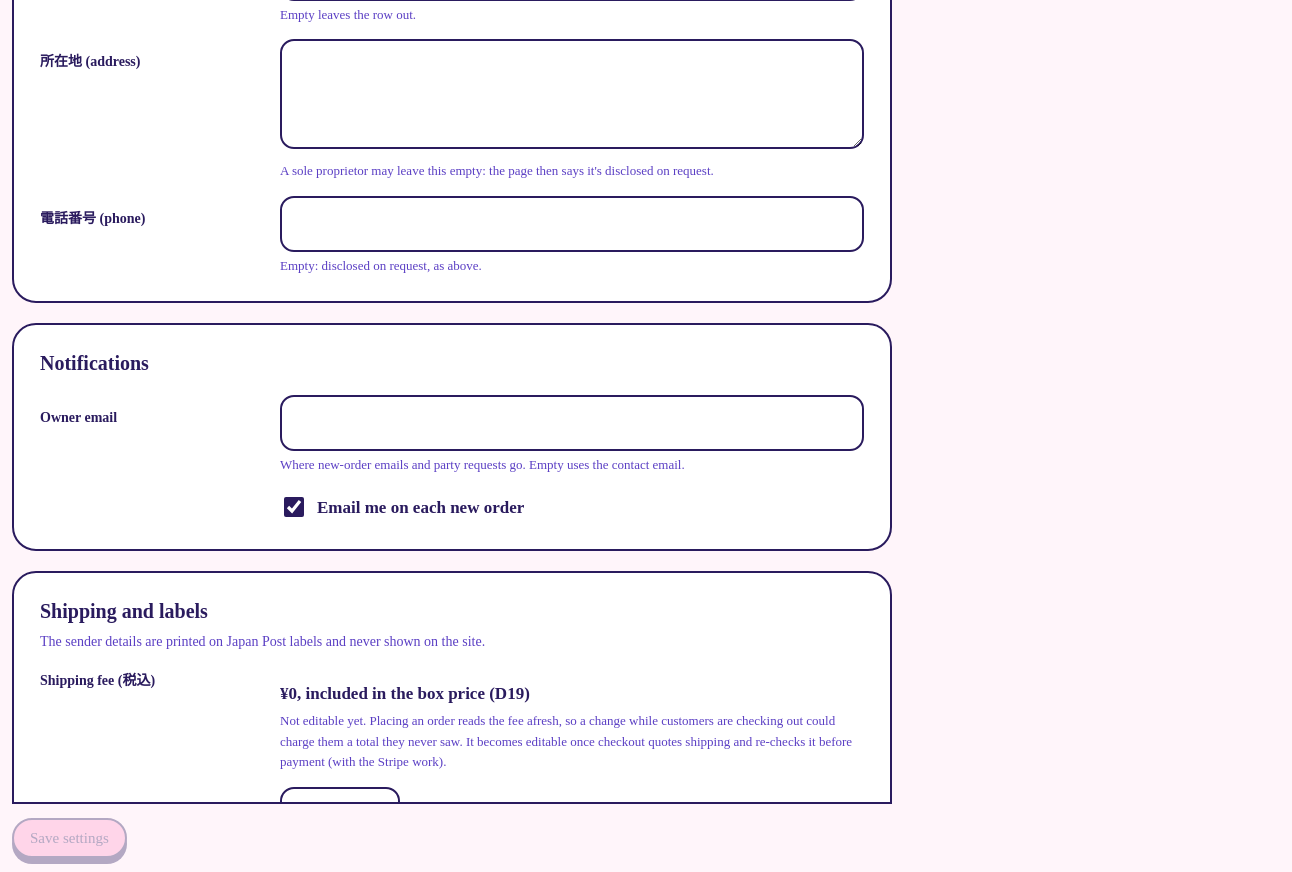
SettingsForm › locks the fields while a save is in flight, so a later edit can't be lost to its answer
(page scrolled)
In the field labelled "Owner email": (572, 423) [280,395,864,451], type "first@example.com"
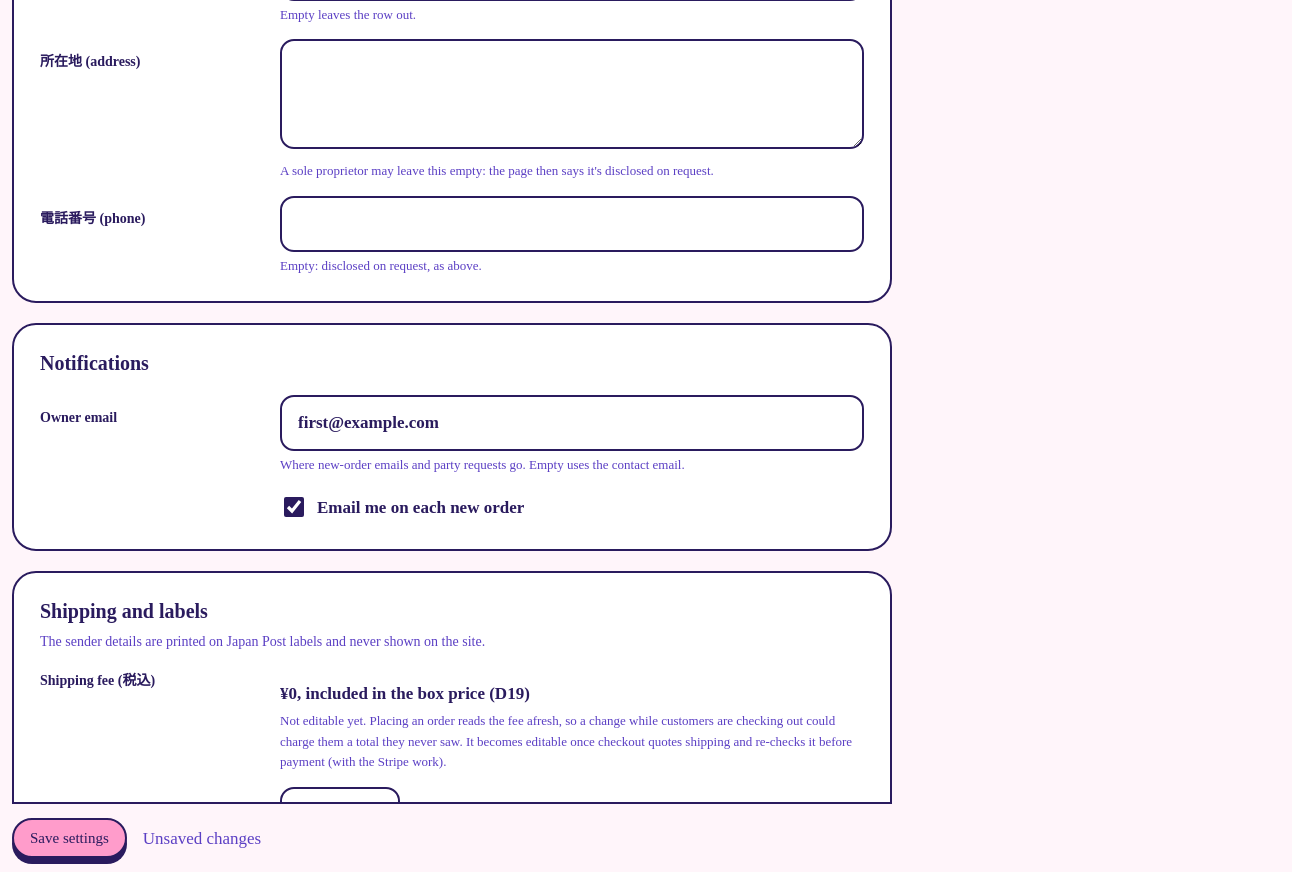
Click the button "Save settings": click(69, 838) [12,818,127,858]
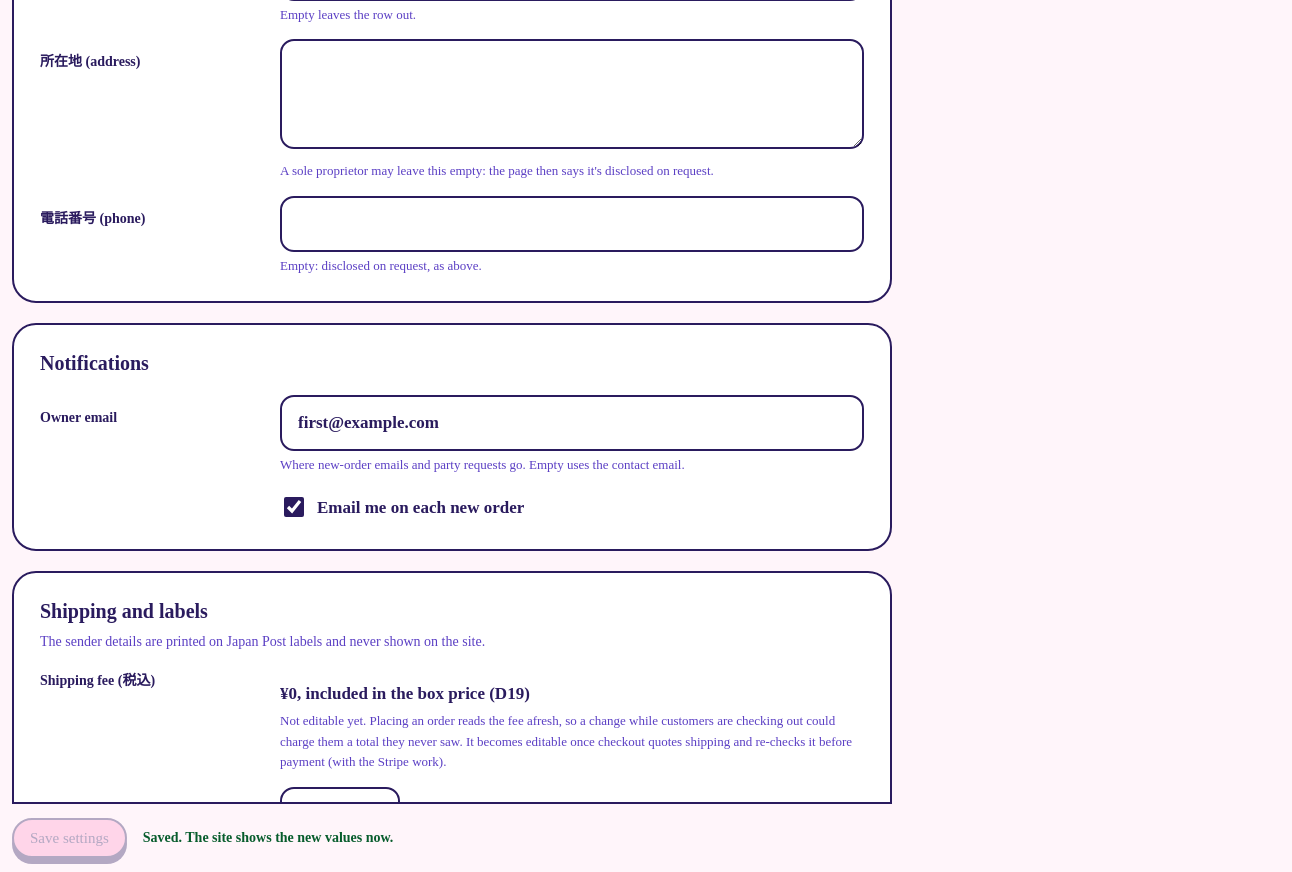
Expected: the message shows "Saved", [143,830,393,845]
